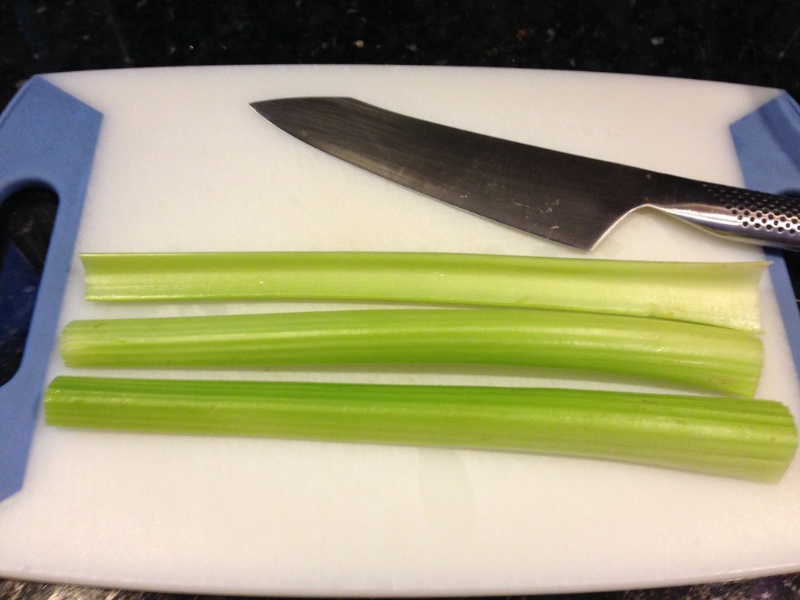knife: (244, 94, 800, 257)
